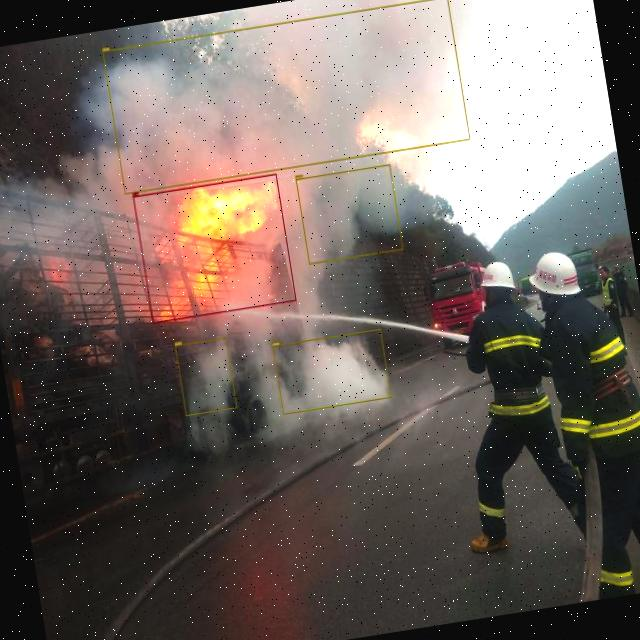fire: (133, 174, 296, 324)
smoke: (102, 0, 469, 194), (296, 164, 403, 264), (272, 329, 392, 415), (175, 337, 238, 416)
